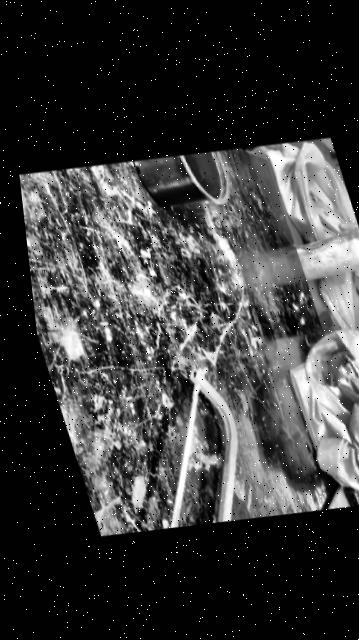pot: (127, 142, 236, 222)
